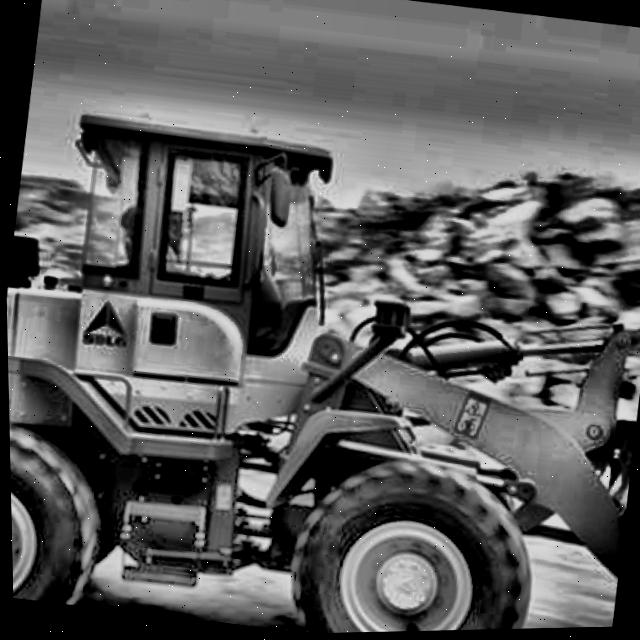buldozerpayloadergrader: (2, 81, 640, 640)
